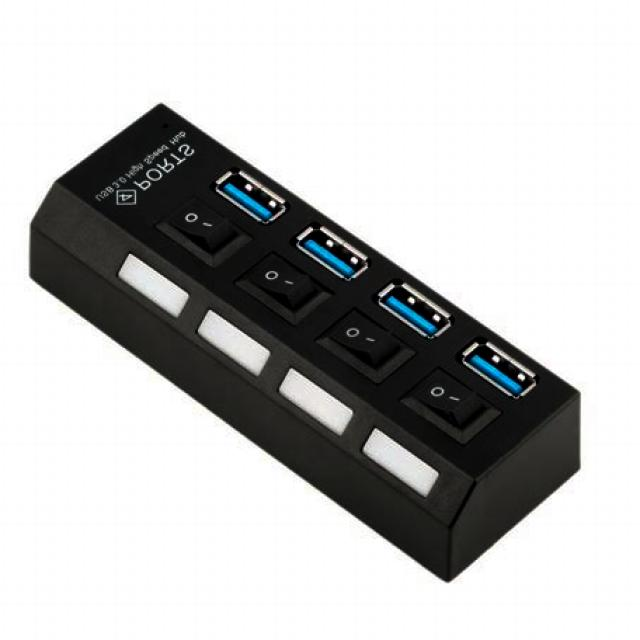usb port: (299, 209, 370, 281), (382, 268, 451, 338), (213, 156, 282, 223), (470, 328, 528, 402)
